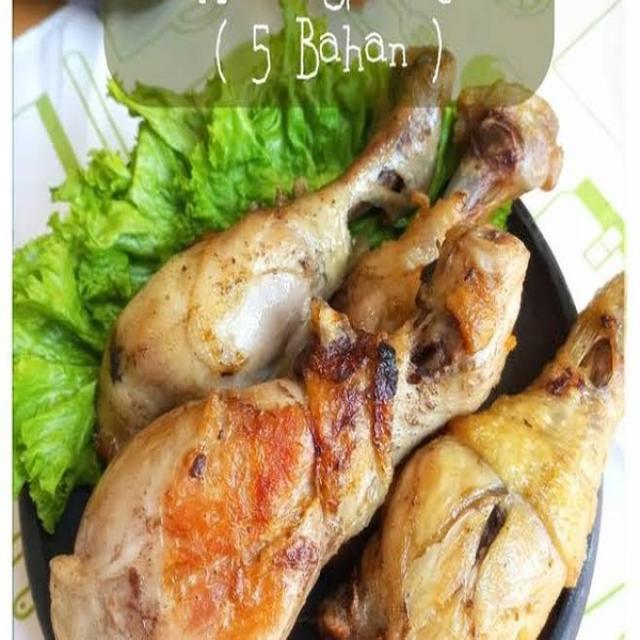CHICKEN FRY: (44, 92, 625, 639)
